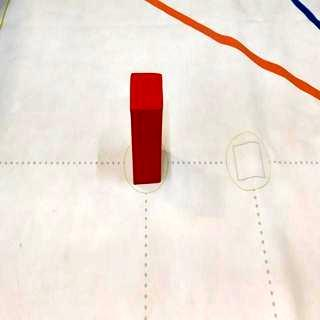redbox: (130, 72, 162, 182)
